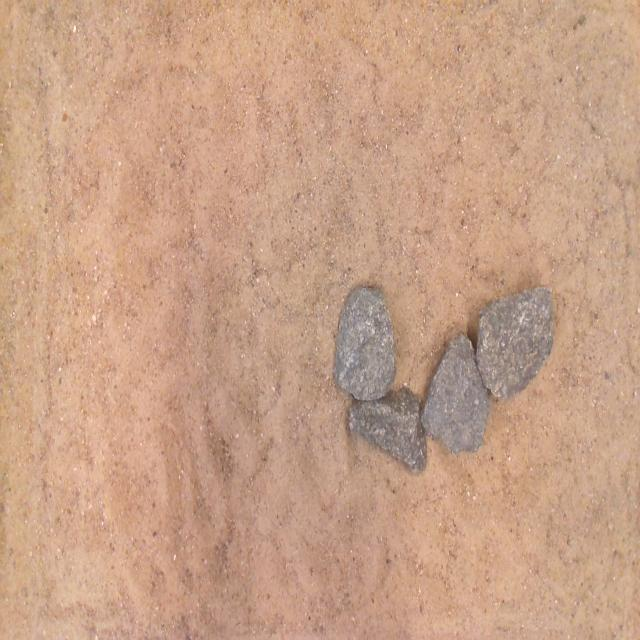rock: (476, 287, 553, 398), (421, 334, 489, 453), (335, 287, 395, 399), (349, 387, 426, 471)
